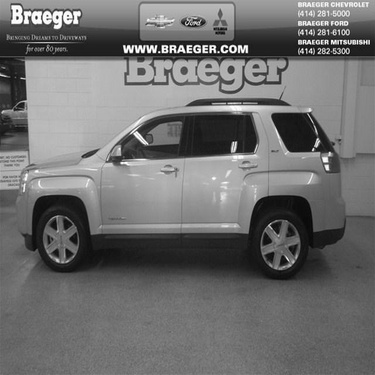car: (5, 89, 350, 276)
